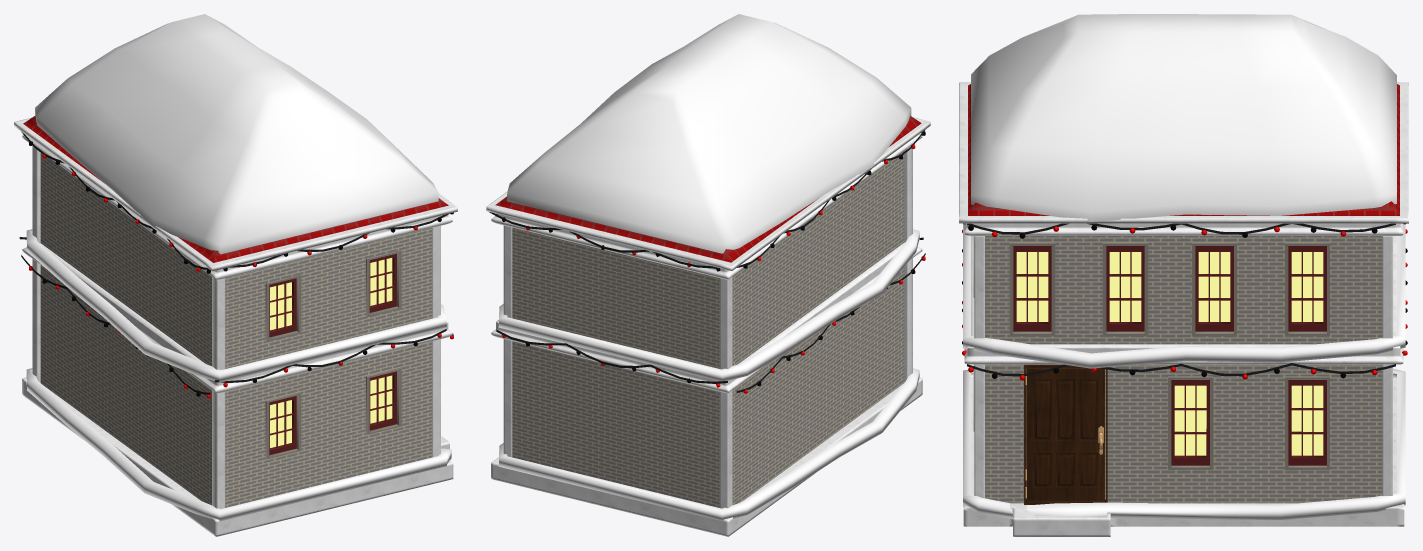
The model's file is House_1.fbx.
3 renders of one model, left to right at view 1: azimuth 30°, elevation 25°; view 2: azimuth 150°, elevation 25°; view 3: azimuth 270°, elevation 25°, orthographic. The views are drawn at different scales.
Parts seen in each view (by area): view 1: U_House, U_Snow, U_Window__12_, U_Window__11_, U_Window__7_, U_Window__10_, U_Wire__1_, U_Light__1_; view 2: U_House, U_Snow, U_Wire__1_, U_Light__1_; view 3: U_Snow, U_House, U_Door_B, U_Window__3_, U_Window__6_, U_Window__8_, U_Window__9_, U_Window__2_, U_Window__1_, U_Wire__1_, U_Door_Border_In_B__2_, U_Light__1_.
Boxes of the visible parts, x1,y1,x2,y2 form: U_House: (14,115,457,536); U_Snow: (26,14,451,521); U_Window__12_: (265,392,301,459); U_Window__11_: (265,274,301,341); U_Window__7_: (366,250,401,317); U_Window__10_: (366,368,401,434); U_Wire__1_: (19,132,453,394); U_Light__1_: (29,141,453,398); U_House: (486,116,930,536); U_Snow: (498,14,919,521); U_Wire__1_: (489,130,925,392); U_Light__1_: (501,131,925,393); U_Snow: (963,14,1405,519); U_House: (959,82,1408,536); U_Door_B: (1026,368,1104,501); U_Window__3_: (1191,242,1237,336); U_Window__6_: (1284,242,1330,336); U_Window__8_: (1102,242,1148,336); U_Window__9_: (1009,242,1055,336); U_Window__2_: (1284,376,1330,469); U_Window__1_: (1168,376,1213,469); U_Wire__1_: (967,223,1395,376); U_Door_Border_In_B__2_: (1024,364,1107,504); U_Light__1_: (962,223,1407,380).
Size of the model in its own units: 575 by 780 by 728.
Materials: 9 (5 with a texture image).
